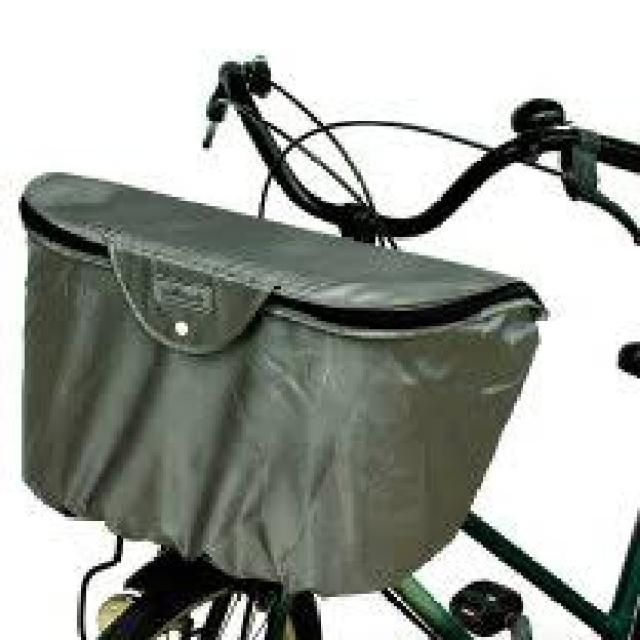basket: (17, 171, 544, 599)
